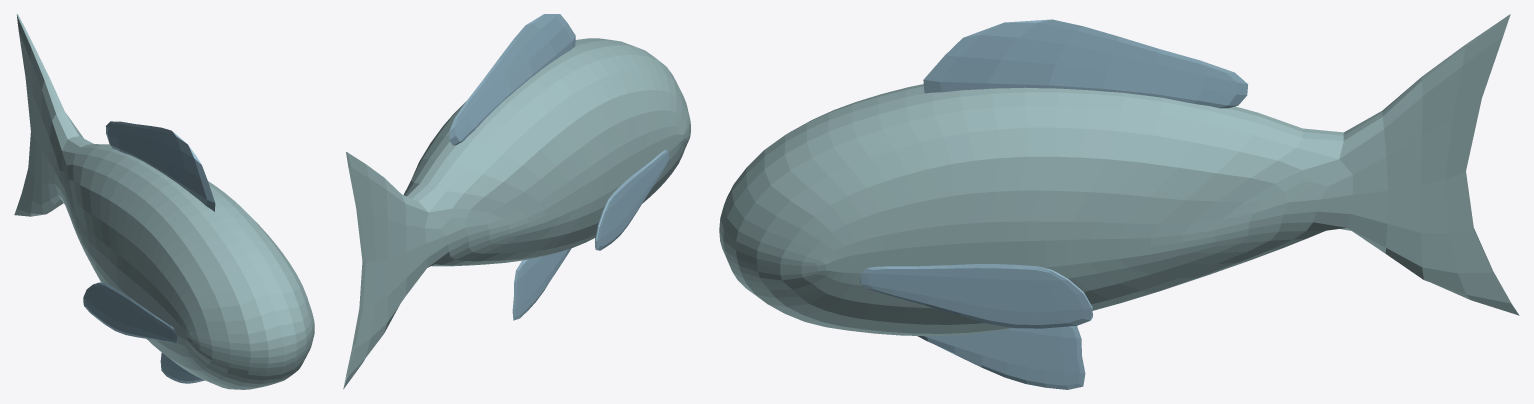
Rendered from Fish.fbx.
3 views of the same model, side by side, from view 1: azimuth 30°, elevation 25°; view 2: azimuth 150°, elevation 25°; view 3: azimuth 270°, elevation 25° (orthographic). The views are drawn at different scales.
Parts seen in each view (by area): view 1: Body; view 2: Body; view 3: Body.
Boxes of the visible parts, x1=… form: Body: x1=14, y1=14, x2=314, y2=389; Body: x1=343, y1=14, x2=690, y2=389; Body: x1=719, y1=14, x2=1519, y2=389.
Bounding box in the file's own units: 91.93 × 148 × 286.
